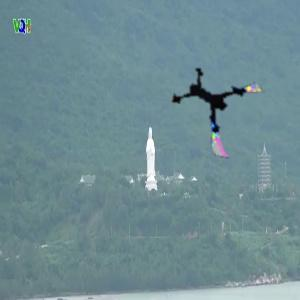drone: (172, 57, 266, 151)
